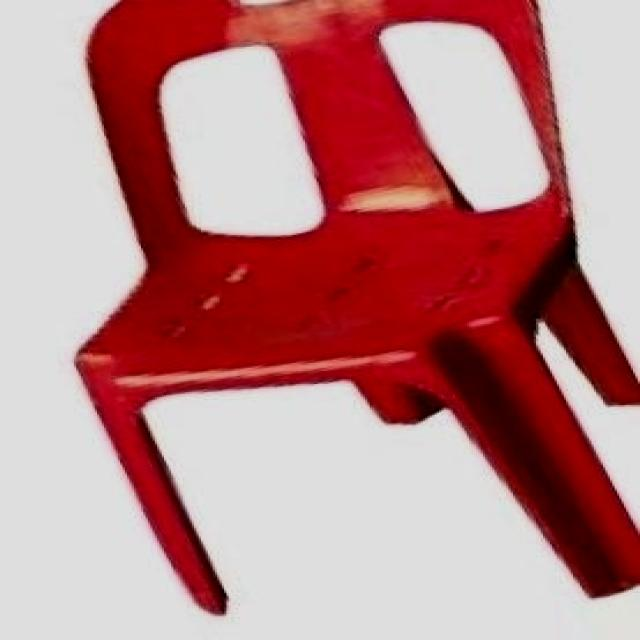Chair: (63, 3, 639, 620)
